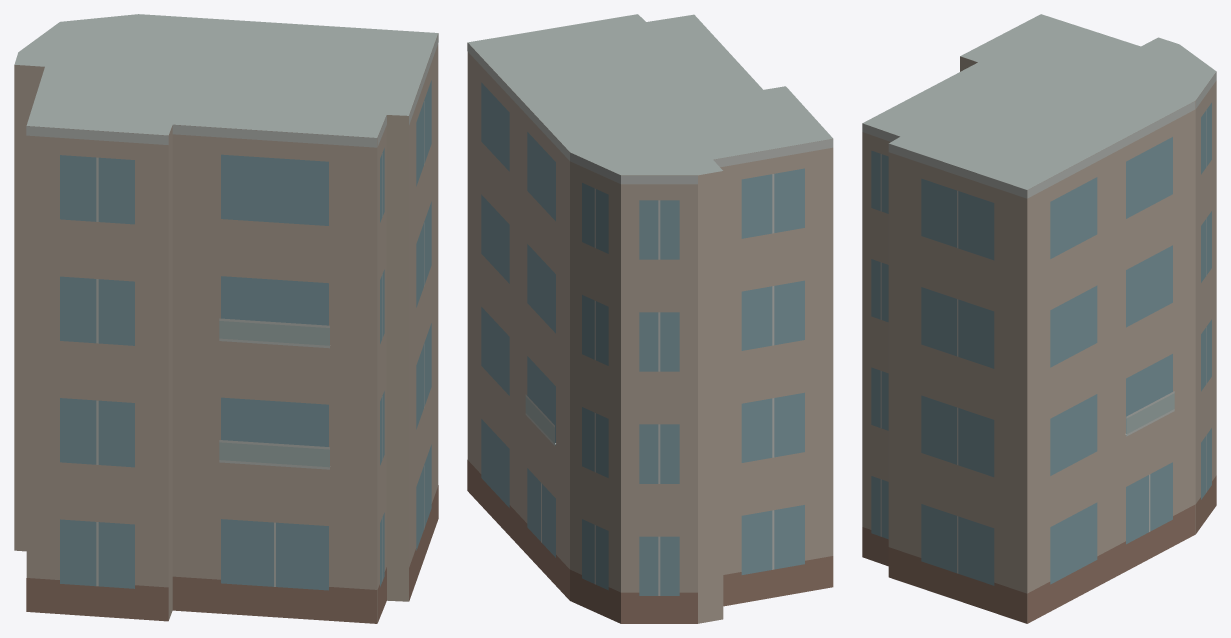
File: survey-upis-32487121.glb
3 renders of one model, left to right at view 1: azimuth 30°, elevation 25°; view 2: azimuth 150°, elevation 25°; view 3: azimuth 270°, elevation 25°, orthographic. The views are drawn at different scales.
Visible parts, largest first — view 1: survey-upis-32487121.tmp; view 2: survey-upis-32487121.tmp; view 3: survey-upis-32487121.tmp.
Boxes of the visible parts, x1,y1,x2,y2 form: survey-upis-32487121.tmp: (14, 14, 438, 623); survey-upis-32487121.tmp: (467, 14, 833, 623); survey-upis-32487121.tmp: (862, 14, 1216, 623).
Bounding box in the file's own units: 10.63 × 12.2 × 9.04.
